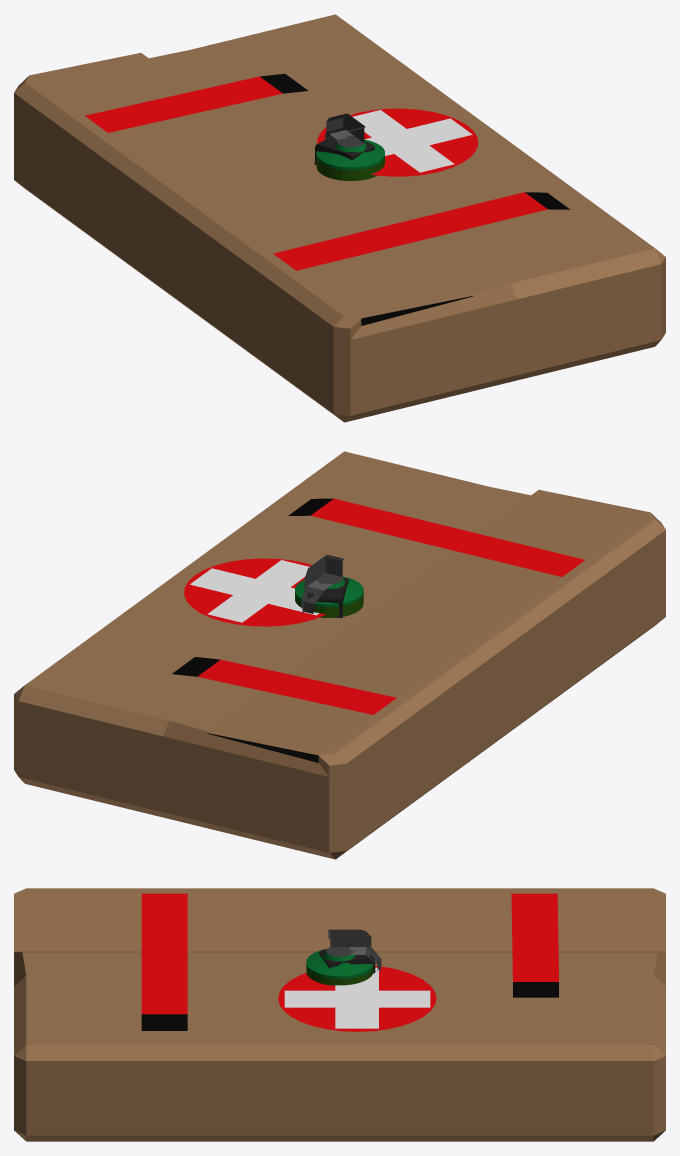
The model's file is Canta.fbx.
3 renders of one model, top to bottom at view 1: azimuth 30°, elevation 25°; view 2: azimuth 150°, elevation 25°; view 3: azimuth 270°, elevation 25°, orthographic.
Visible parts, largest first — view 1: Cube, Cylinder.001; view 2: Cube, Cylinder.001; view 3: Cube, Cylinder.001, Cylinder.
Part boxes in pixels (bbox=[...]): Cube: bbox=[14, 14, 665, 422]; Cylinder.001: bbox=[316, 113, 384, 180]; Cube: bbox=[14, 451, 665, 859]; Cylinder.001: bbox=[295, 554, 363, 617]; Cube: bbox=[14, 888, 665, 1141]; Cylinder.001: bbox=[306, 929, 381, 985]; Cylinder: bbox=[319, 949, 375, 973].
Bounding box in the file's own units: 1632 × 685 × 2824.
